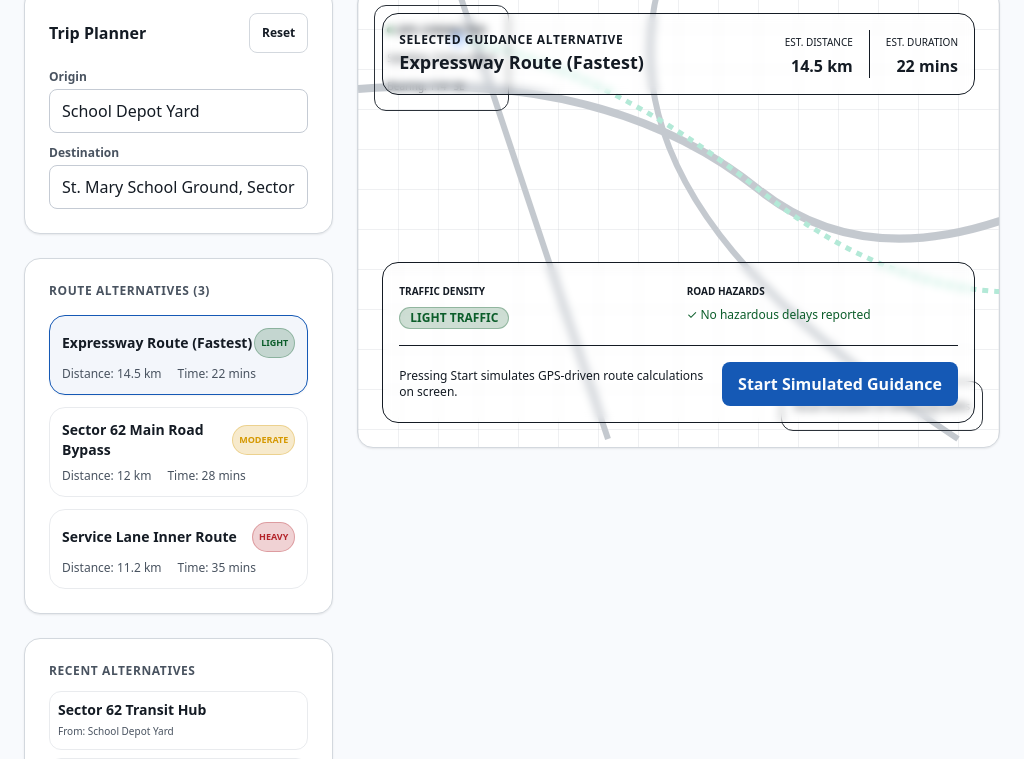
NavigationPage MVP Component Tests › supports Start Navigation action and renders guidelines alerts
(page scrolled)
Click the button "Start Simulated Guidance" at x=840, y=384, box [722,362,958,406]
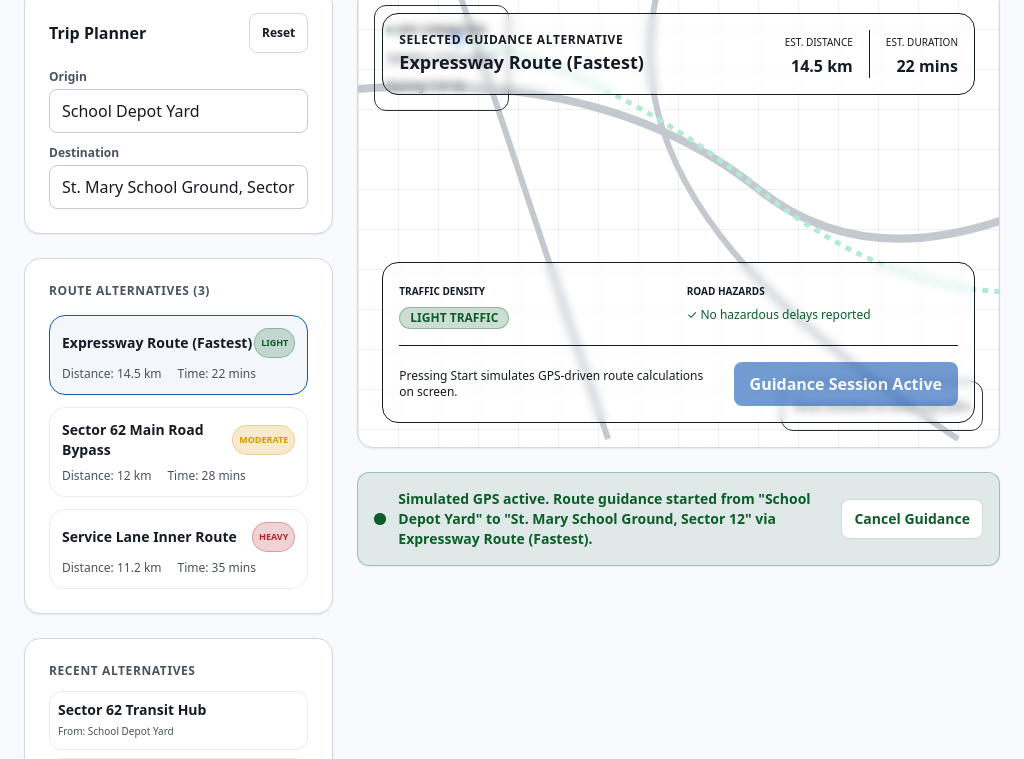
Expected: the text "Simulated GPS active. Route guidance started" is shown, [398,489,811,548]
Expected: the button "Cancel Guidance" is shown, [842,499,983,539]
